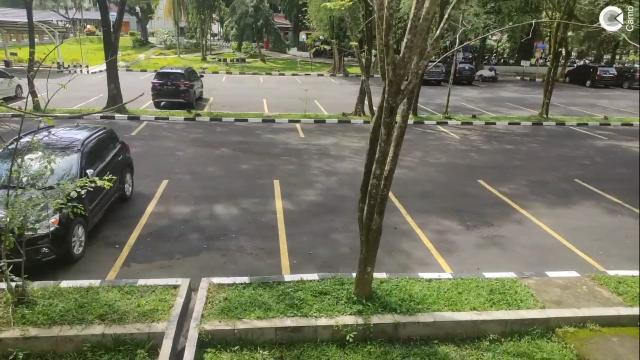empty: (281, 178, 424, 276), (137, 180, 281, 276), (424, 180, 544, 270), (546, 179, 640, 267), (131, 117, 303, 141), (442, 118, 596, 140), (266, 90, 326, 115), (206, 92, 268, 112)
occupied: (44, 144, 136, 274), (144, 73, 208, 109)
